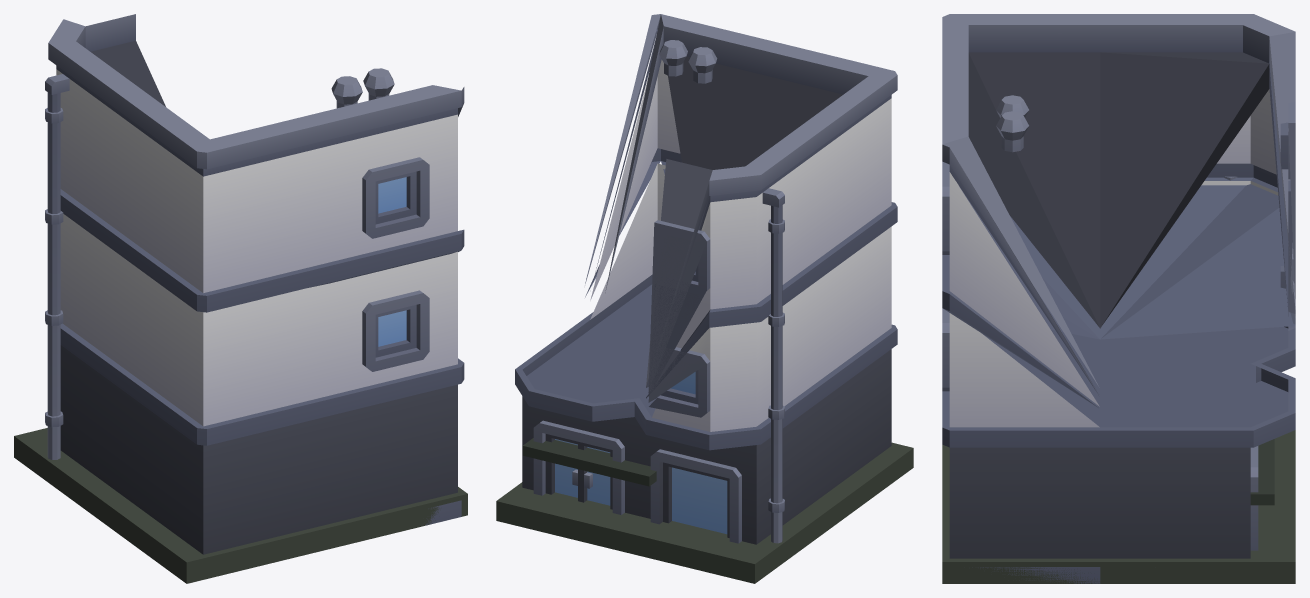
Rendered from building-a-ruined.glb.
3 renders of one model, left to right at view 1: azimuth 30°, elevation 25°; view 2: azimuth 150°, elevation 25°; view 3: azimuth 270°, elevation 25°, orthographic. The views are drawn at different scales.
Parts seen in each view (by area): view 1: building-a-ruined; view 2: building-a-ruined; view 3: building-a-ruined.
Part boxes in pixels (x1,y1,x2,y2): building-a-ruined: [14, 14, 467, 583]; building-a-ruined: [496, 14, 913, 583]; building-a-ruined: [942, 14, 1295, 583].
Size of the model in its own units: 0.8836 by 1.29 by 0.94.
Materials: 6 (1 with a texture image).
